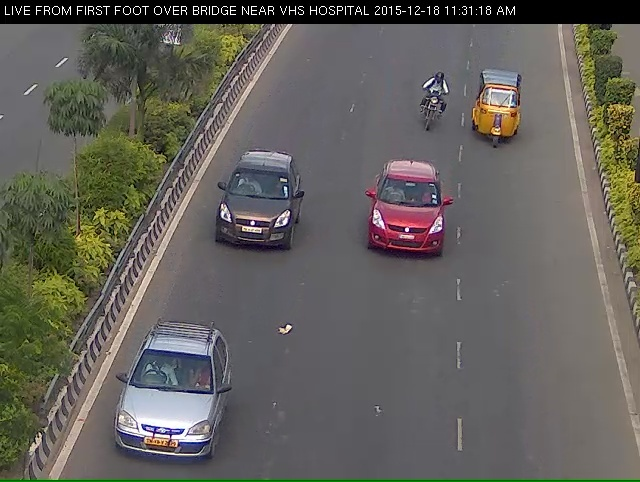Car: (115, 337, 226, 476), (364, 161, 456, 281), (215, 158, 304, 269), (474, 69, 529, 160)
Person: (413, 74, 454, 144)
